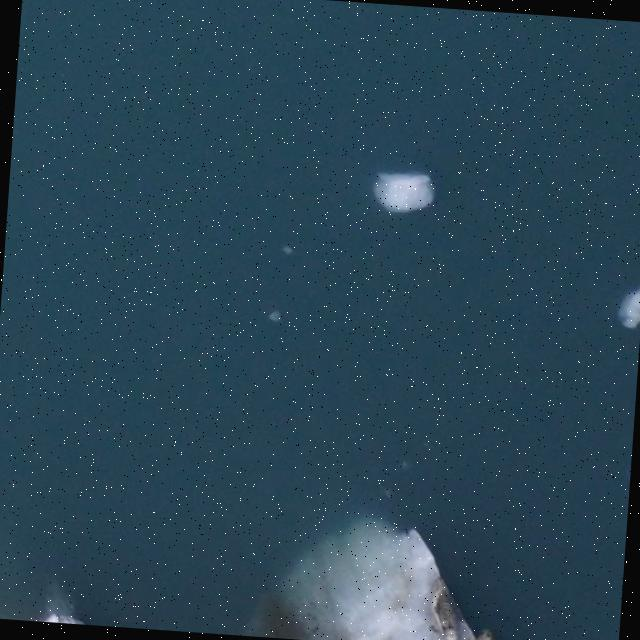seal: (431, 579, 460, 640), (470, 630, 494, 640)
